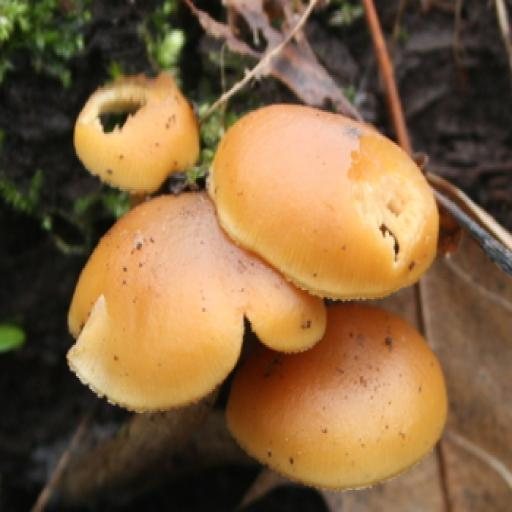mushroom: (55, 53, 452, 494)
